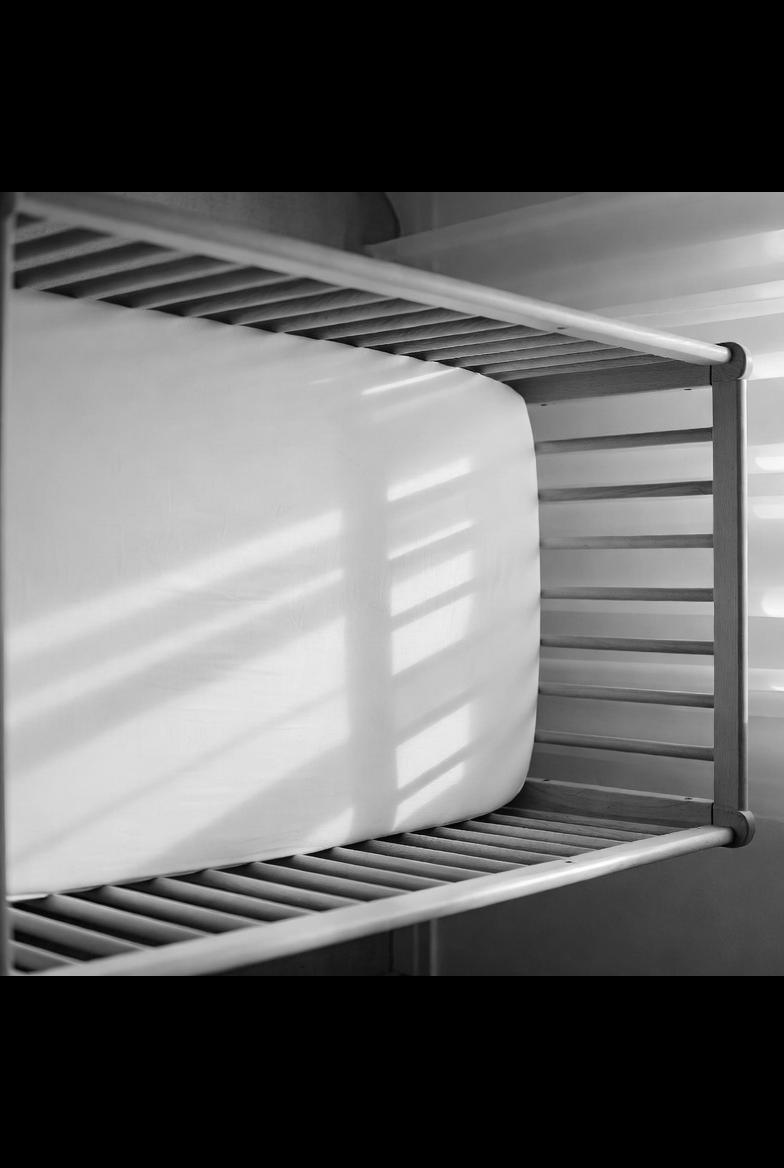crib: (0, 192, 752, 976)
